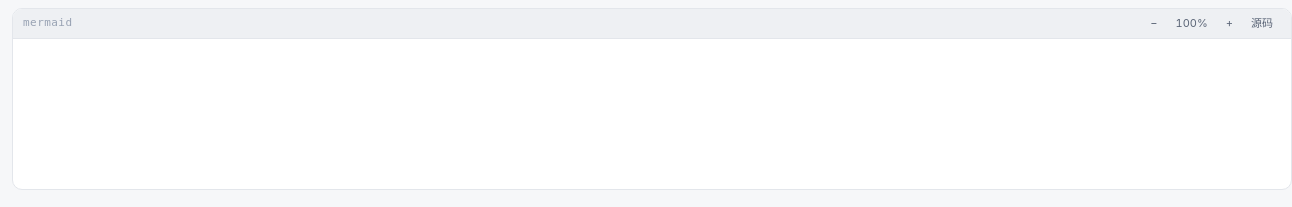
BlockFrame › toggles between diagram and source after a successful render
The image size is (1292, 207).
Expected: the icon is shown, [13,39,313,189]
Click the button with class "cb-frame-toggle" showing "源码".
click(1262, 24)  # box [1243,13,1281,34]
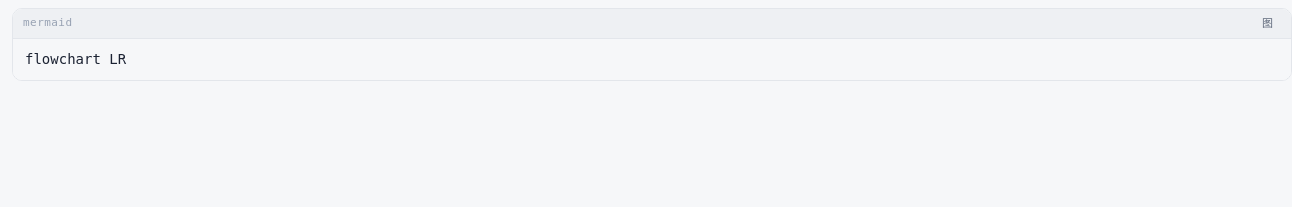
Expected: the text "flowchart LR" is shown, [25,51,126,67]
Expected: the icon is gone
